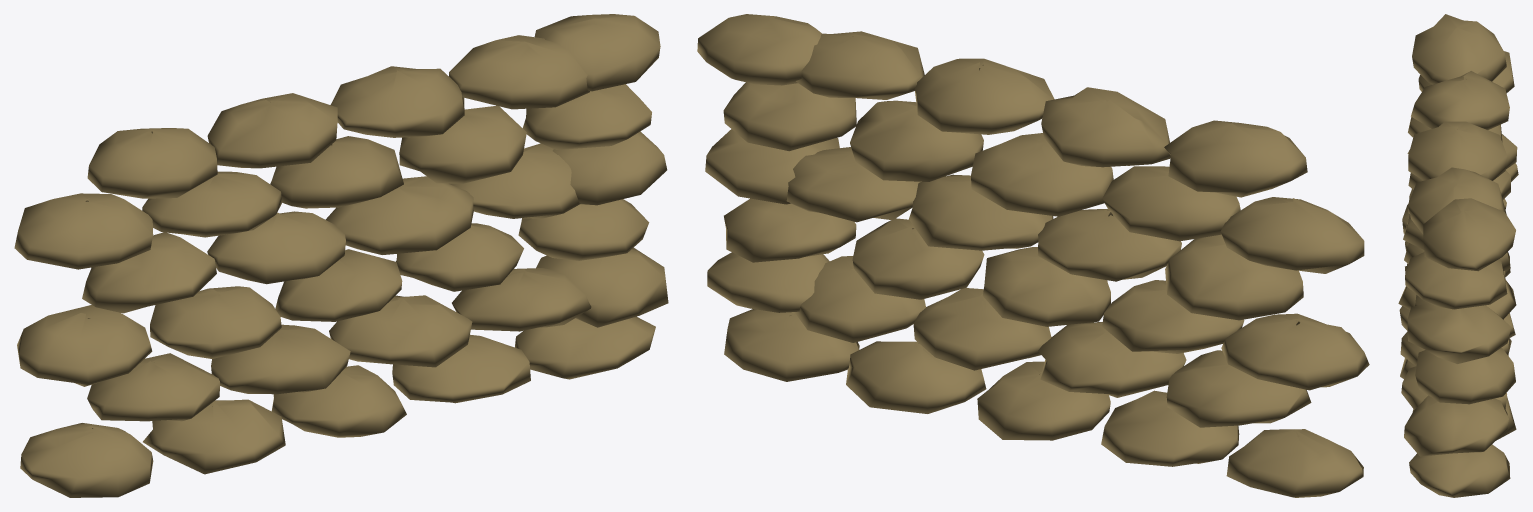
The model's file is sandbag_04.obj.
3 renders of one model, left to right at view 1: azimuth 30°, elevation 25°; view 2: azimuth 150°, elevation 25°; view 3: azimuth 270°, elevation 25°, orthographic. The views are drawn at different scales.
Visible parts, largest first — view 1: sandbag_04; view 2: sandbag_04; view 3: sandbag_04.
Part boxes in pixels (left/top/right/bottom): sandbag_04: left=14, top=14, right=668, bottom=497; sandbag_04: left=697, top=14, right=1369, bottom=497; sandbag_04: left=1398, top=14, right=1518, bottom=497.
Bounding box in the file's own units: 2.39 × 1.22 × 0.4668.
